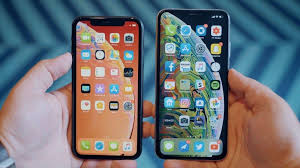iphone: (154, 6, 229, 162), (68, 14, 143, 161)
iphone10: (153, 6, 228, 162), (69, 14, 144, 161)
